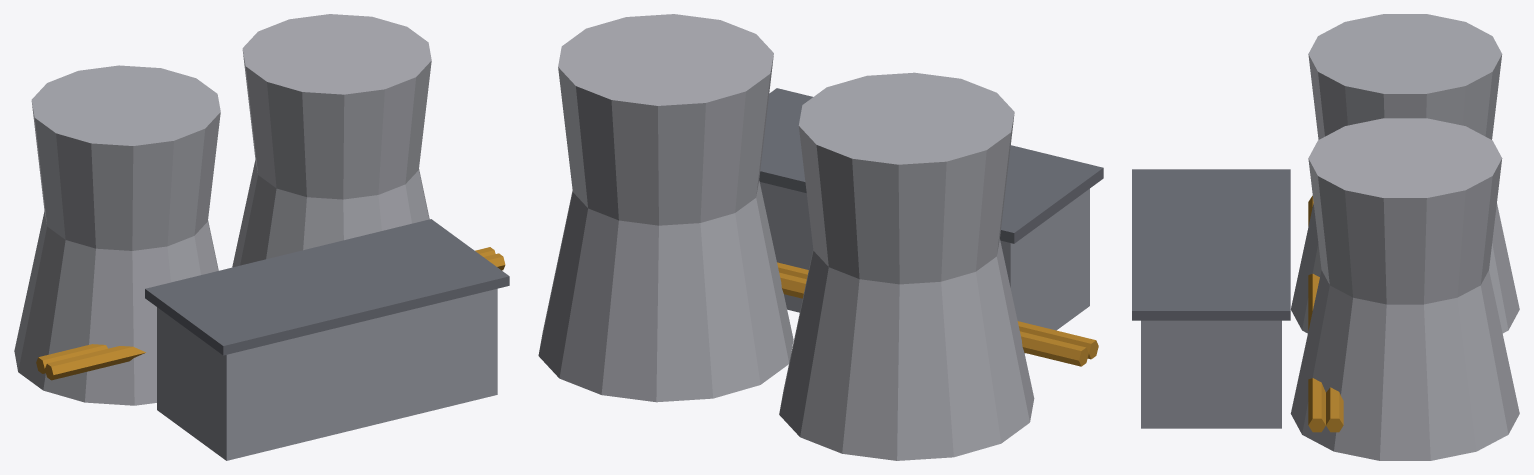
File: geothermal.glb
3 renders of one model, left to right at view 1: azimuth 30°, elevation 25°; view 2: azimuth 150°, elevation 25°; view 3: azimuth 270°, elevation 25°, orthographic. The views are drawn at different scales.
Visible parts, largest first — view 1: geothermal; view 2: geothermal; view 3: geothermal.
Part boxes in pixels (box(x1,y1,x2,y2)): geothermal: box(14, 14, 509, 460); geothermal: box(538, 14, 1103, 460); geothermal: box(1132, 14, 1519, 460).
Size of the model in its own units: 6 by 3.2 by 4.4.
